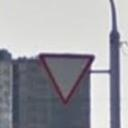preferencia: (35, 49, 99, 110)
